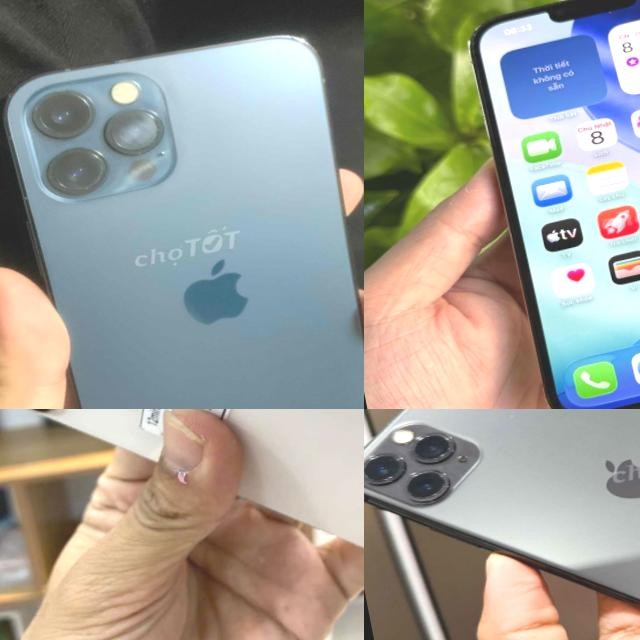gen_11: (364, 409, 640, 640)
gen_12_13: (0, 5, 364, 409), (0, 409, 364, 640), (461, 0, 640, 409)
